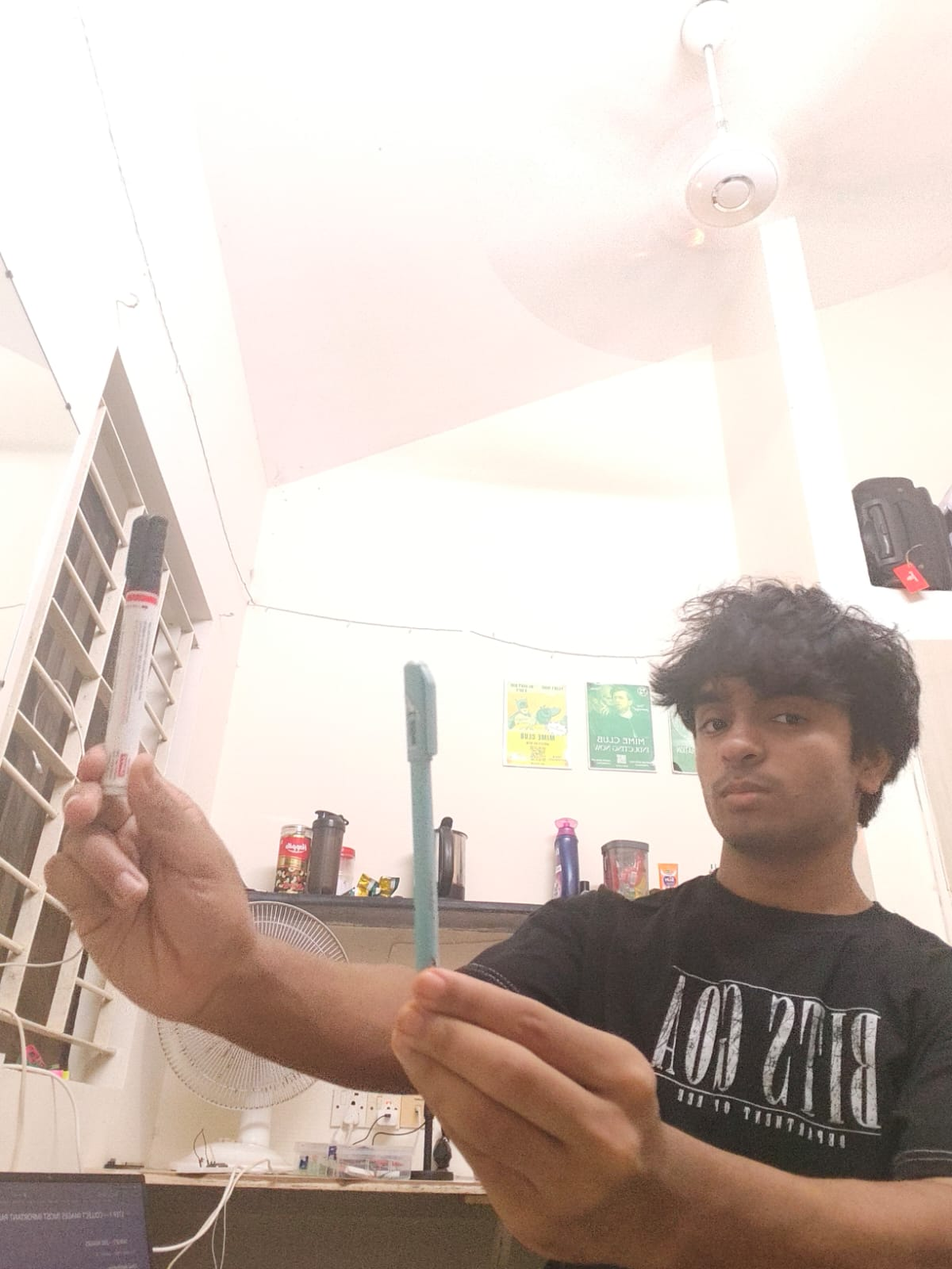case: (112, 502, 164, 800)
pen: (396, 655, 447, 968)
